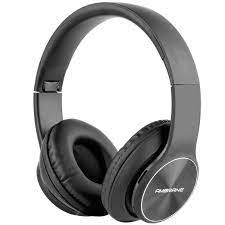headphone: (18, 1, 199, 218)
